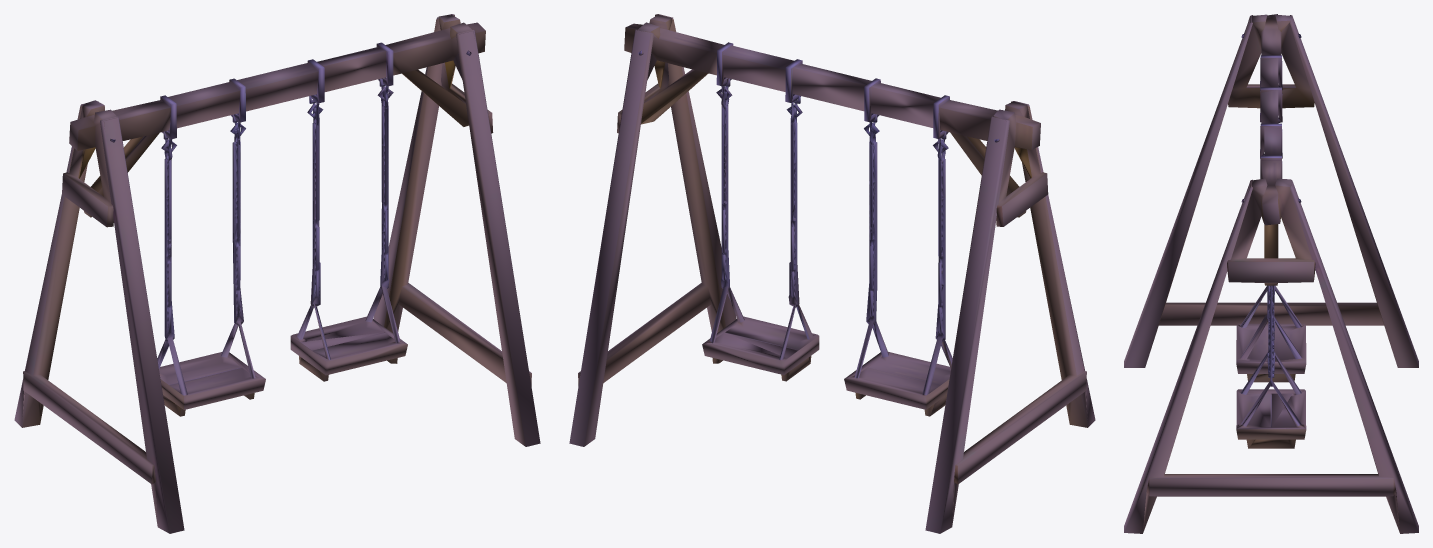
Rendered from model.progressive.glb.
3 renders of one model, left to right at view 1: azimuth 30°, elevation 25°; view 2: azimuth 150°, elevation 25°; view 3: azimuth 270°, elevation 25°, orthographic. The views are drawn at different scales.
Visible parts, largest first — view 1: material; view 2: material; view 3: material.
Boxes of the visible parts, bbox=[...] form: material: bbox=[14, 14, 540, 533]; material: bbox=[569, 14, 1095, 533]; material: bbox=[1124, 14, 1418, 533].
Size of the model in its own units: 1.9 by 1.63 by 1.26.
Materials: 1 (1 with a texture image).
